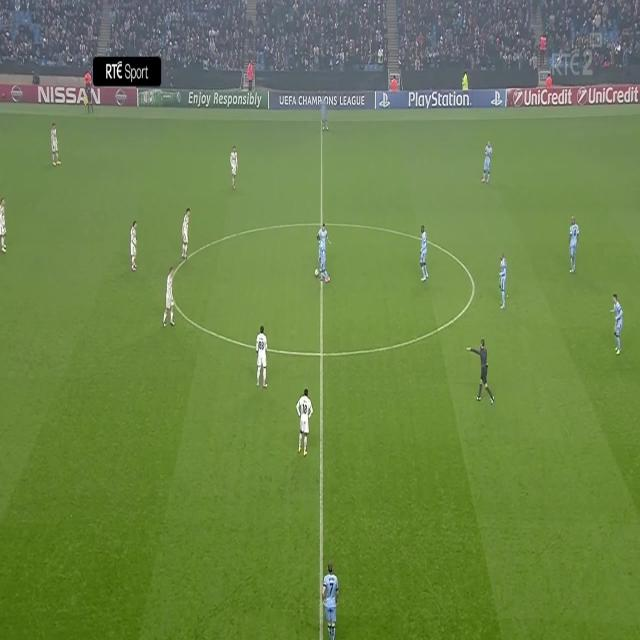Ball: (312, 266, 320, 280)
Player: (294, 387, 316, 459), (321, 558, 339, 639), (609, 289, 626, 362), (254, 324, 271, 390), (416, 223, 431, 286), (567, 212, 581, 279), (162, 264, 175, 330), (315, 221, 331, 271), (127, 218, 140, 276), (179, 204, 192, 262), (480, 139, 496, 186), (497, 250, 509, 310), (49, 120, 61, 168), (229, 143, 239, 191), (318, 95, 330, 132), (0, 196, 7, 256)
Referee: (466, 338, 496, 407), (84, 80, 94, 115)
